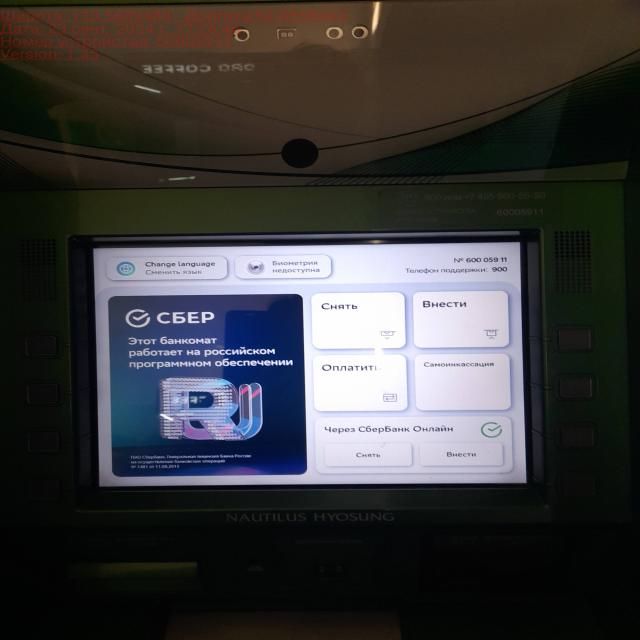bank: (52, 190, 631, 620)
